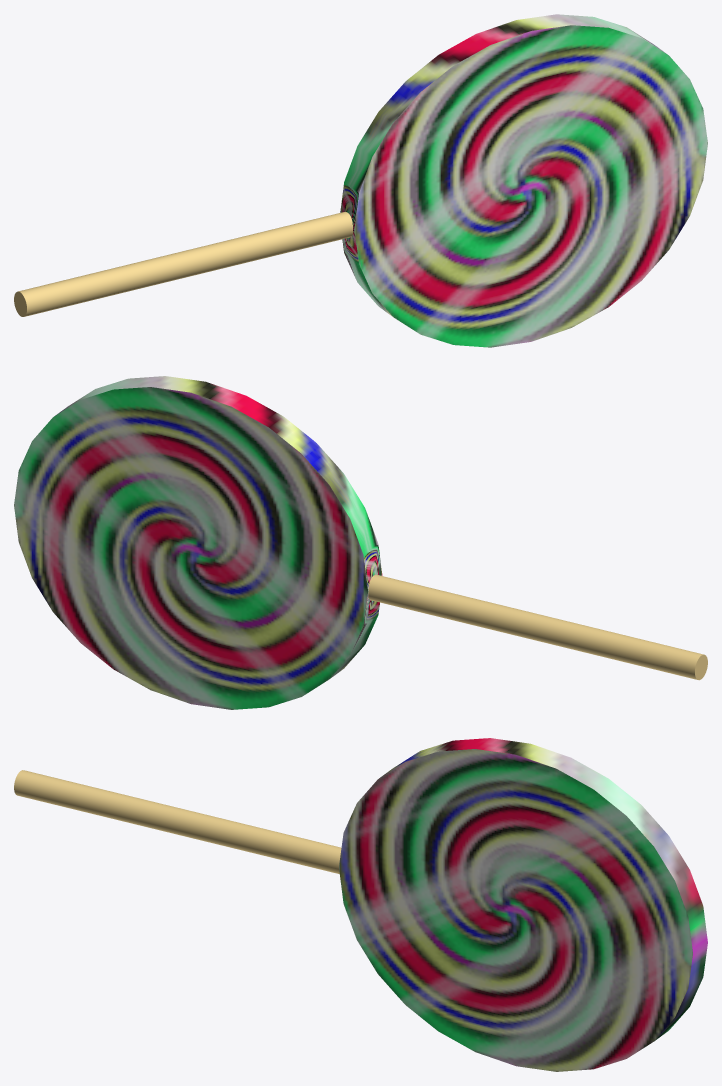
3 renders of one model, top to bottom at view 1: azimuth 30°, elevation 25°; view 2: azimuth 150°, elevation 25°; view 3: azimuth 330°, elevation 25°, orthographic.
Parts seen in each view (by area): view 1: it250; view 2: it250; view 3: it250.
Boxes of the visible parts, <box> form: it250: <box>14,14,707,347</box>; it250: <box>14,376,707,709</box>; it250: <box>14,738,707,1071</box>.
Bounding box in the file's own units: 2.64 × 1.16 × 0.1003.
2 materials, 2 textured.
